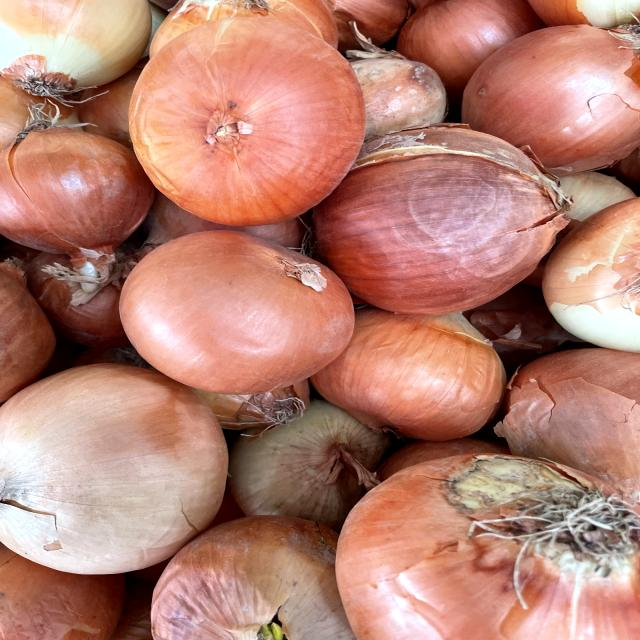onion: (300, 128, 576, 318), (122, 17, 370, 226), (110, 228, 362, 399)
